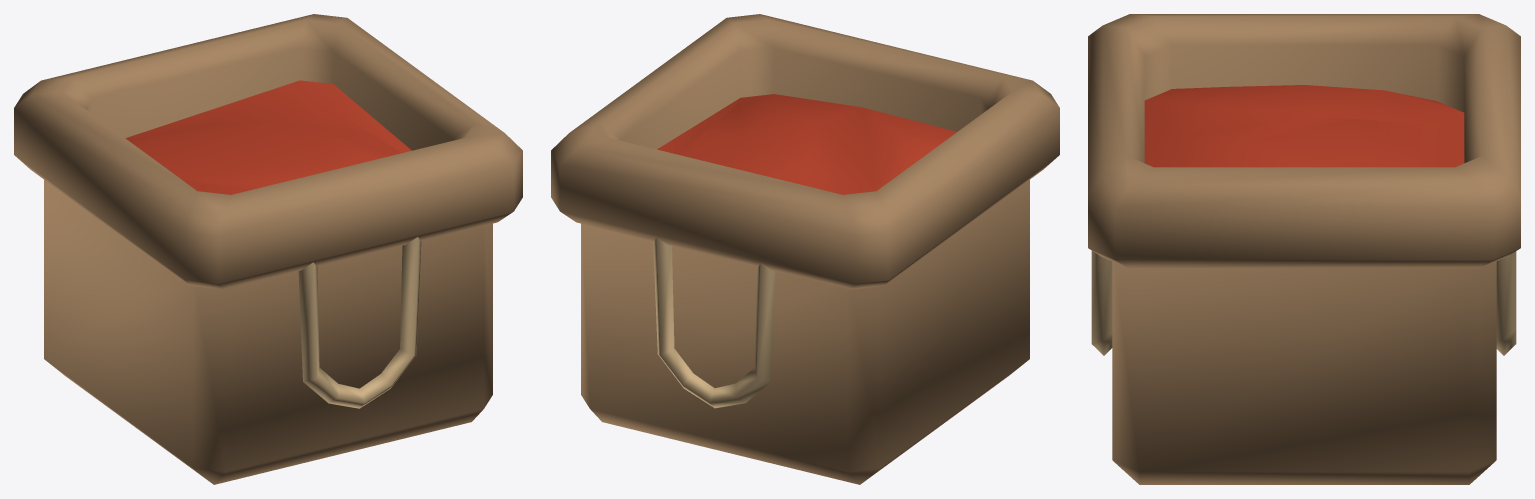
File: rpgpp_ag_basket_02b.fbx
3 views of the same model, side by side, from view 1: azimuth 30°, elevation 25°; view 2: azimuth 150°, elevation 25°; view 3: azimuth 270°, elevation 25° (orthographic). The views are drawn at different scales.
Parts seen in each view (by area): view 1: rpgpp_ag_basket_02b; view 2: rpgpp_ag_basket_02b; view 3: rpgpp_ag_basket_02b.
Boxes of the visible parts, bbox=[...] form: rpgpp_ag_basket_02b: bbox=[14, 14, 522, 484]; rpgpp_ag_basket_02b: bbox=[551, 14, 1059, 484]; rpgpp_ag_basket_02b: bbox=[1088, 14, 1520, 484].
Bounding box in the file's own units: 0.4866 × 0.4009 × 0.4866.
